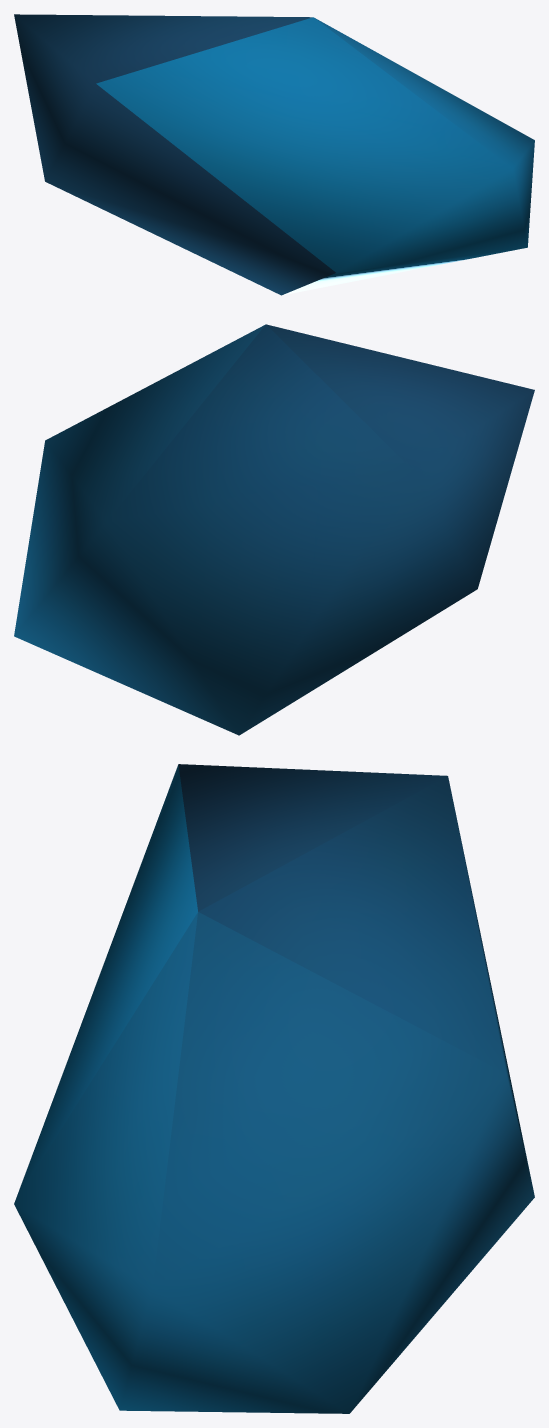
The model's file is iceShard.gltf.
3 renders of one model, top to bottom at view 1: azimuth 30°, elevation 25°; view 2: azimuth 150°, elevation 25°; view 3: azimuth 270°, elevation 25°, orthographic. The views are drawn at different scales.
Visible parts, largest first — view 1: IceBlock.001; view 2: IceBlock.001; view 3: IceBlock.001.
Part boxes in pixels (x1,y1,x2,y2): IceBlock.001: (14,14,534,295); IceBlock.001: (14,324,534,735); IceBlock.001: (14,764,534,1413).
Size of the model in its own units: 3.07 by 2.04 by 2.24.
Materials: 1 (1 with a texture image).
